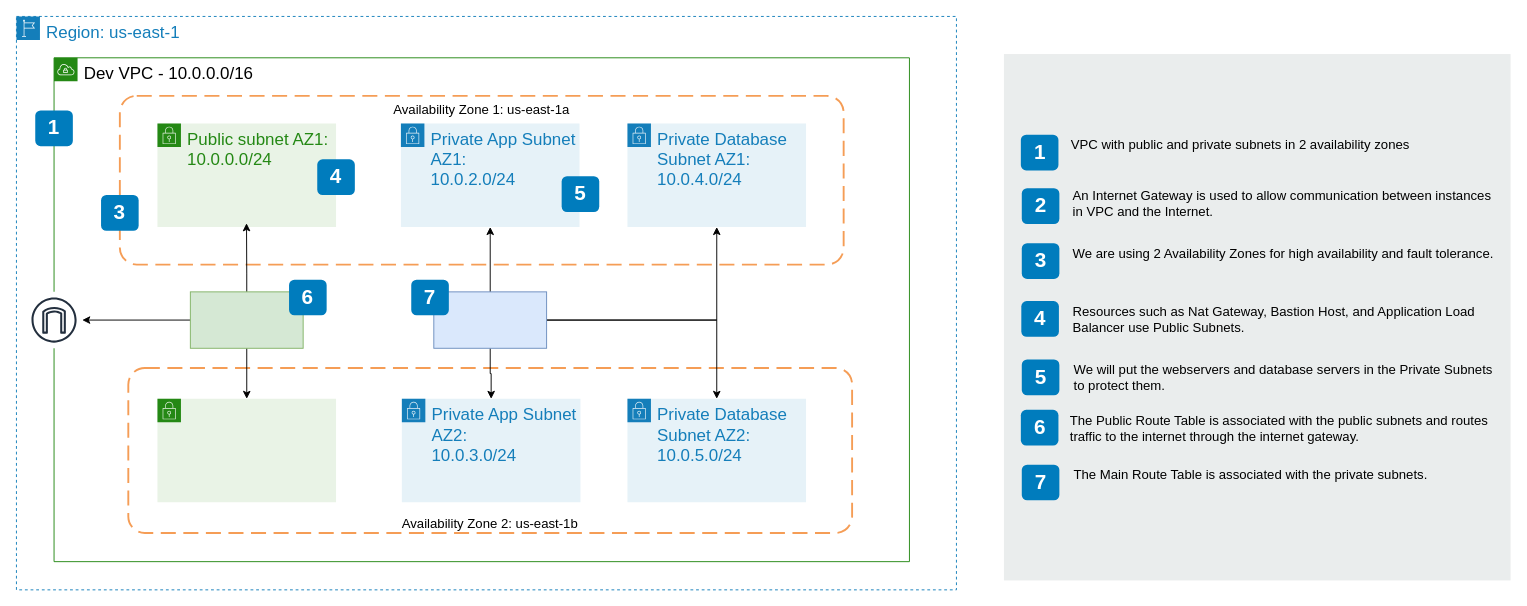
The diagram is 1527 pixels wide and 606 high, and some of its shapes have lost their labels. The centre of each missing label's shape, as x and y in pixels:
"Internet gateway" goes at [53,319].
"Main Route Table" goes at [490,319].
"Public Route Table" goes at [246,319].
"Public subnet AZ2: 10.0.1.0/24" goes at [246,450].
